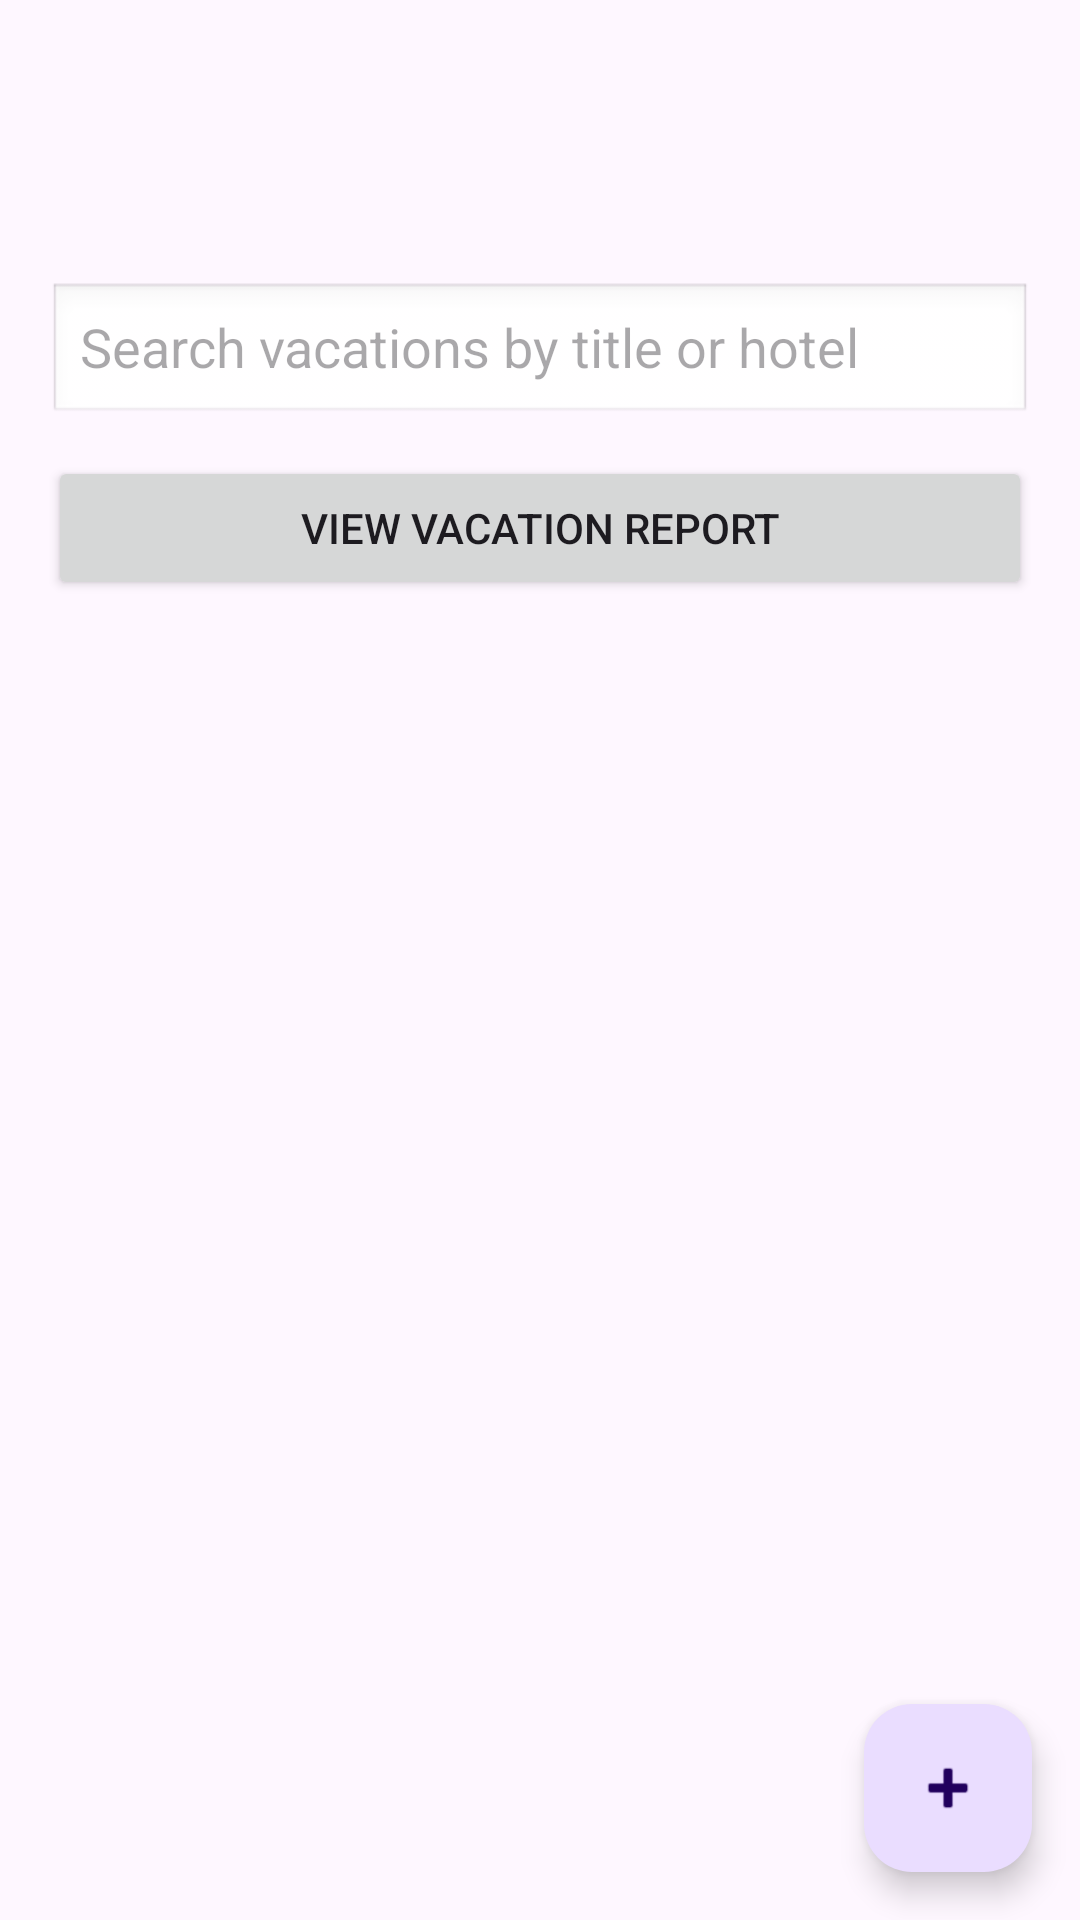

Screen size 1080w x 1920h. Icon name, then its box in pixels as (x1, y1, x2, y2):
Add Vacation: (864, 1704, 1032, 1872)
